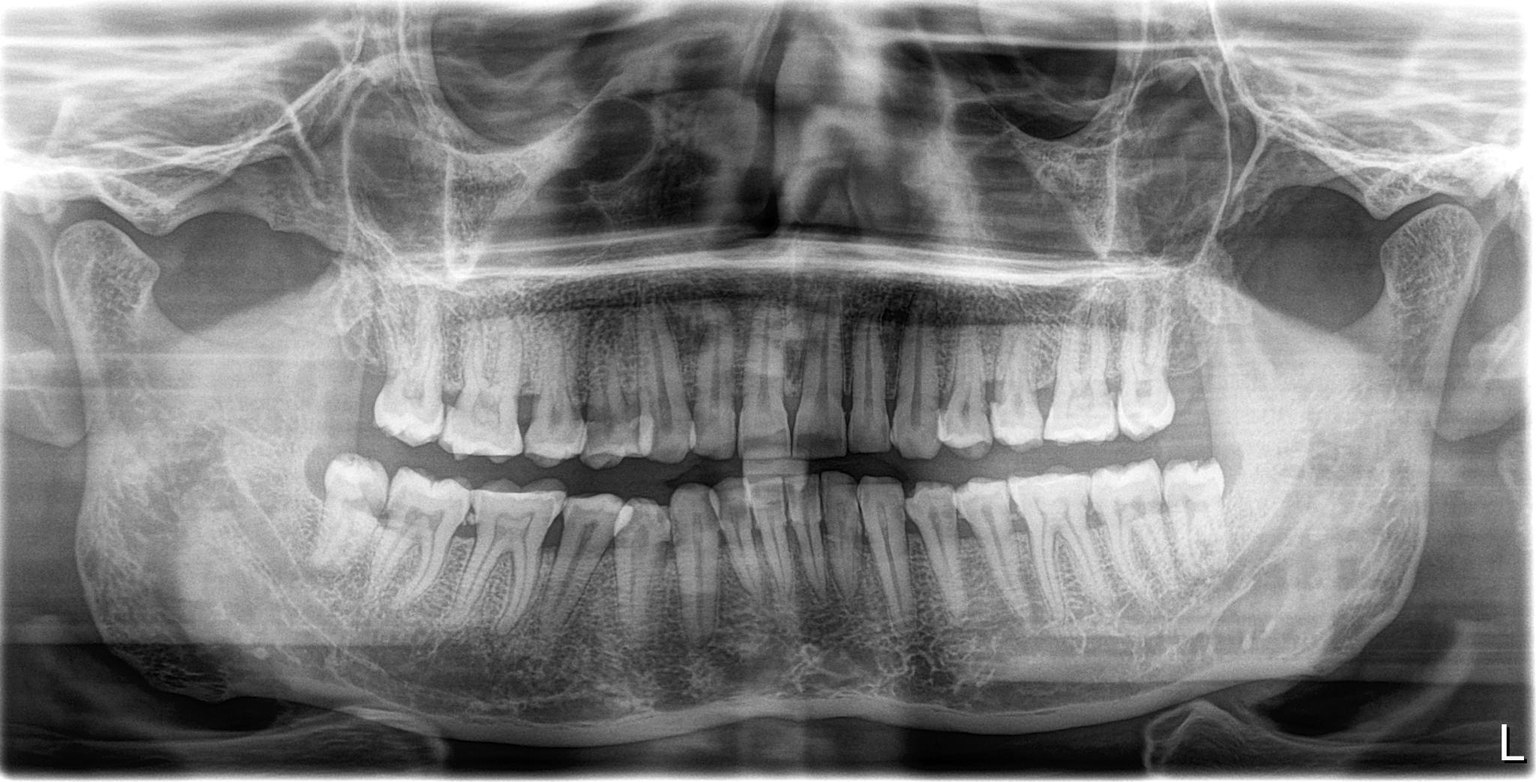Impacted Third Molar: (1166, 455, 1238, 598), (319, 439, 391, 558)
